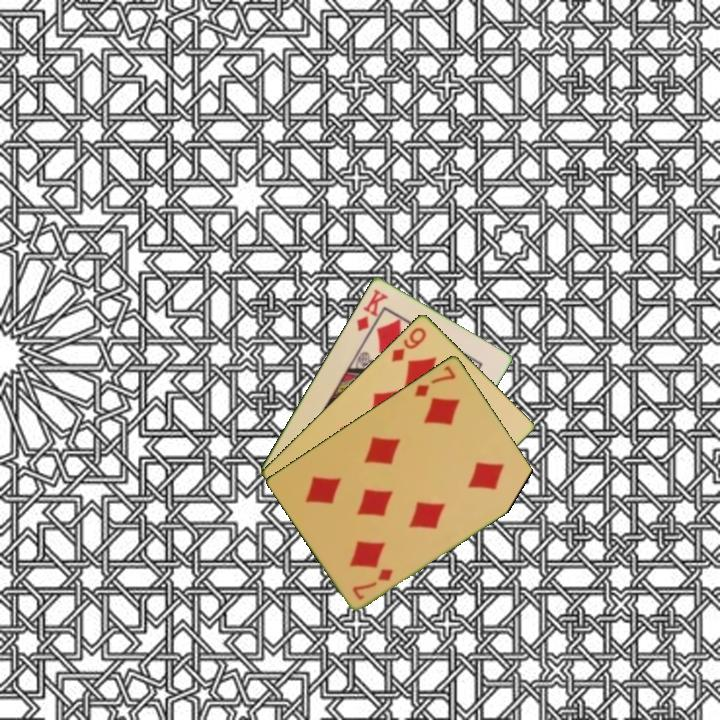7d: (411, 362, 459, 399), (349, 565, 396, 602)
9d: (387, 323, 429, 365)
Kd: (353, 285, 391, 334)
